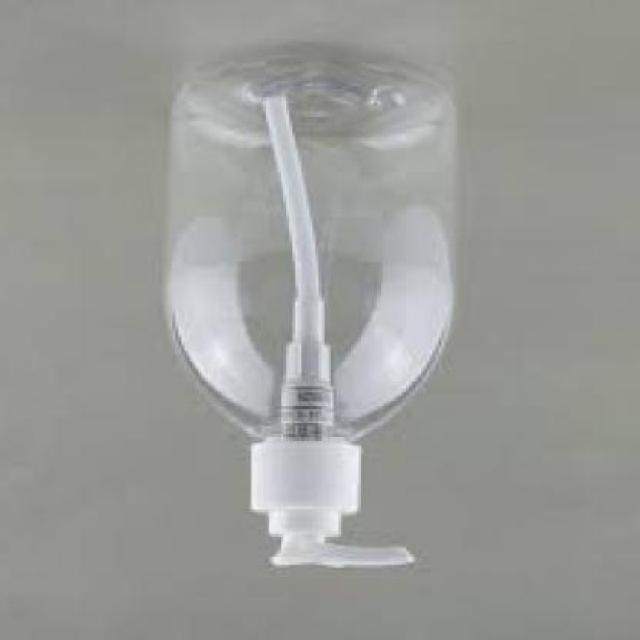PLASTIC: (164, 48, 462, 570), (248, 437, 418, 571)
